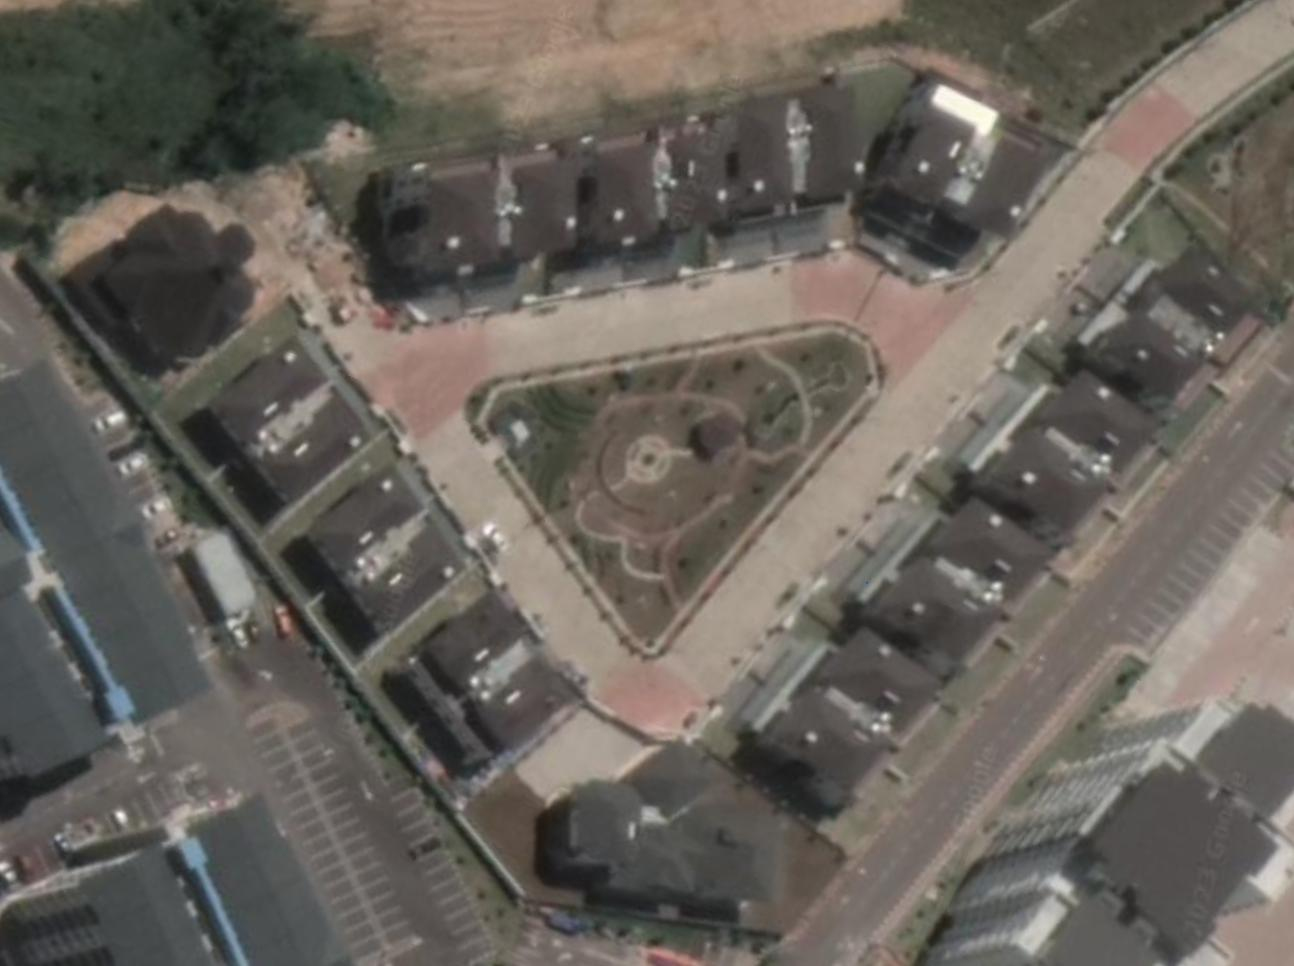building: (516, 717, 786, 940), (38, 190, 273, 404), (399, 640, 599, 810), (357, 571, 546, 746), (720, 672, 914, 837), (160, 319, 340, 486), (305, 511, 487, 677), (216, 378, 392, 544), (267, 447, 441, 607), (845, 533, 1020, 687), (940, 97, 1096, 259), (862, 56, 1002, 235), (905, 479, 1077, 624), (360, 137, 518, 293), (799, 606, 968, 747), (1114, 217, 1276, 364), (957, 400, 1125, 539), (1024, 346, 1177, 486), (1072, 293, 1238, 420), (585, 110, 673, 264), (667, 91, 749, 249), (508, 129, 590, 273), (735, 66, 804, 230), (806, 63, 862, 209)
